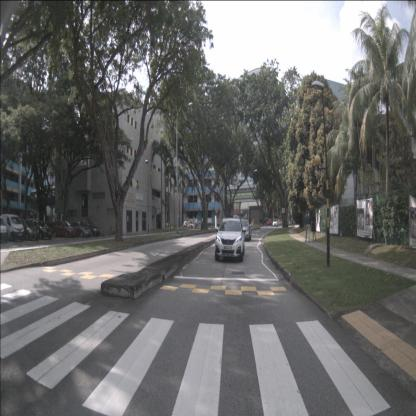human-pedestrian-adult: (304, 210, 311, 243), (310, 210, 316, 242)
vehicle-bicycle: (109, 225, 118, 235)
vehicle-car: (214, 218, 244, 261), (1, 214, 24, 242), (16, 219, 39, 241), (52, 220, 76, 239), (32, 220, 52, 240), (234, 219, 251, 242), (70, 221, 91, 238), (81, 220, 101, 237), (0, 216, 8, 243), (183, 221, 195, 229), (272, 219, 279, 226), (267, 219, 272, 226)
